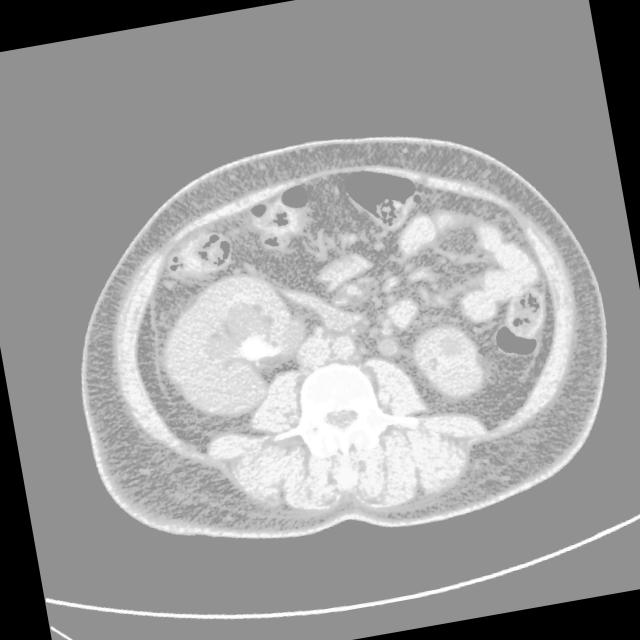STONE: (133, 120, 562, 421)
